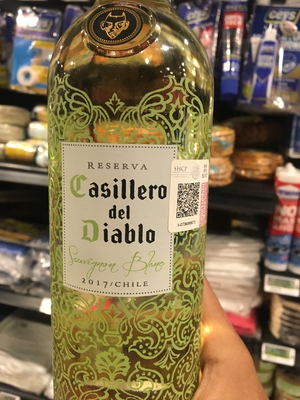casillero del diablo sauvignon blanc: (40, 9, 218, 400)
